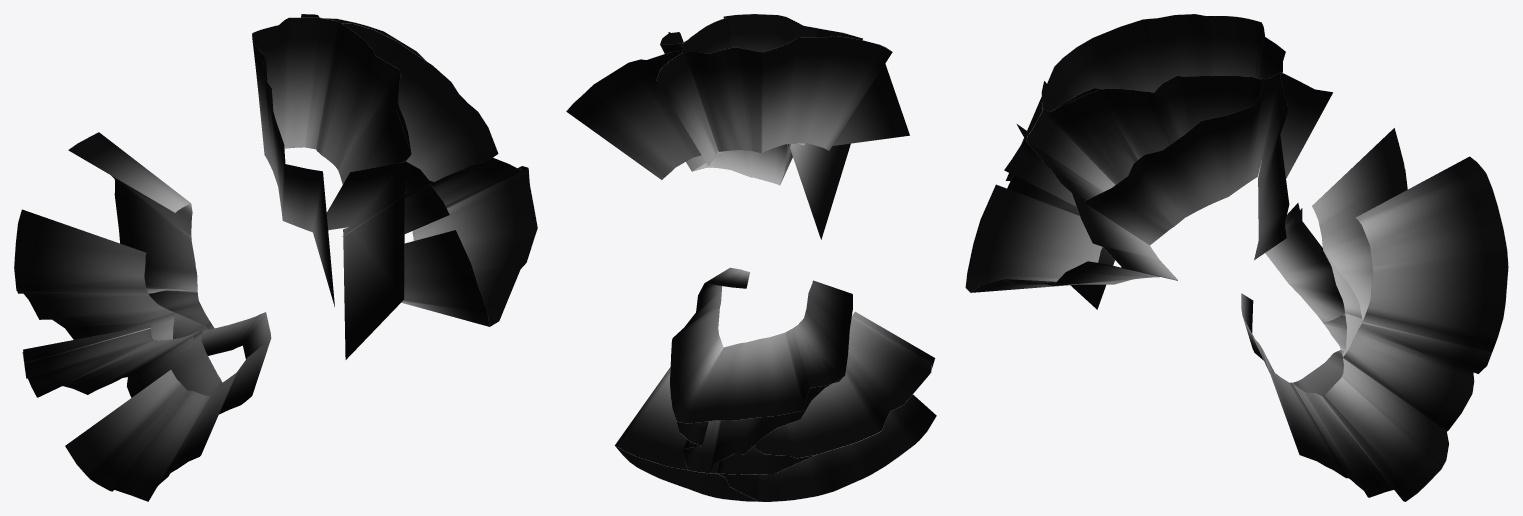
File: lieguang_A3.FBX
The picture shows the model from 3 angles, left to right: view 1: azimuth 30°, elevation 25°; view 2: azimuth 150°, elevation 25°; view 3: azimuth 270°, elevation 25°; orthographic projection. The views are drawn at different scales.
Visible parts, largest first — view 1: lieguang_A3; view 2: lieguang_A3; view 3: lieguang_A3.
Part boxes in pixels (x1,y1,x2,y2): lieguang_A3: [14, 14, 537, 501]; lieguang_A3: [566, 14, 936, 501]; lieguang_A3: [965, 14, 1508, 501].
Size of the model in its own units: 183 by 194 by 199.
